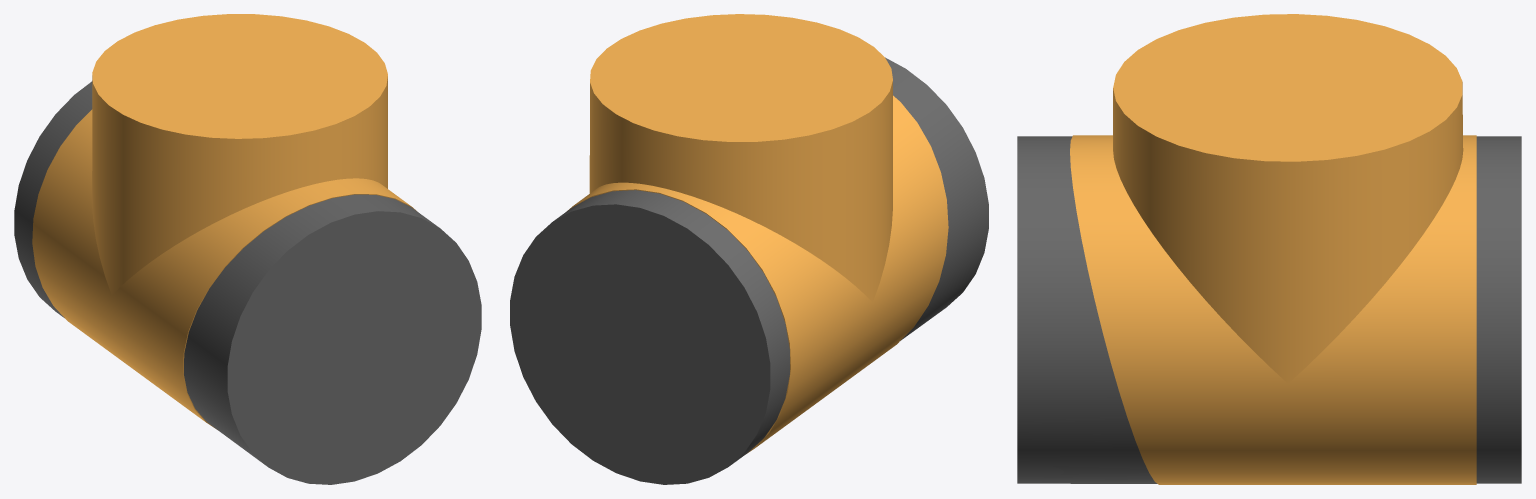
3 views of the same model, side by side, from view 1: azimuth 30°, elevation 25°; view 2: azimuth 150°, elevation 25°; view 3: azimuth 270°, elevation 25° (orthographic). The views are drawn at different scales.
Parts seen in each view (by area): view 1: FBXASC195FBXASC137FBXASC194FBXASC190FBXASC194FBXASC179FBXASC; view 2: FBXASC195FBXASC137FBXASC194FBXASC190FBXASC194FBXASC179FBXASC; view 3: FBXASC195FBXASC137FBXASC194FBXASC190FBXASC194FBXASC179FBXASC.
Boxes of the visible parts, bbox=[...] form: FBXASC195FBXASC137FBXASC194FBXASC190FBXASC194FBXASC179FBXASC: bbox=[14, 14, 481, 484]; FBXASC195FBXASC137FBXASC194FBXASC190FBXASC194FBXASC179FBXASC: bbox=[510, 14, 988, 484]; FBXASC195FBXASC137FBXASC194FBXASC190FBXASC194FBXASC179FBXASC: bbox=[1017, 14, 1521, 484].
Bounding box in the file's own units: 0.075 × 0.108 × 0.0898.
